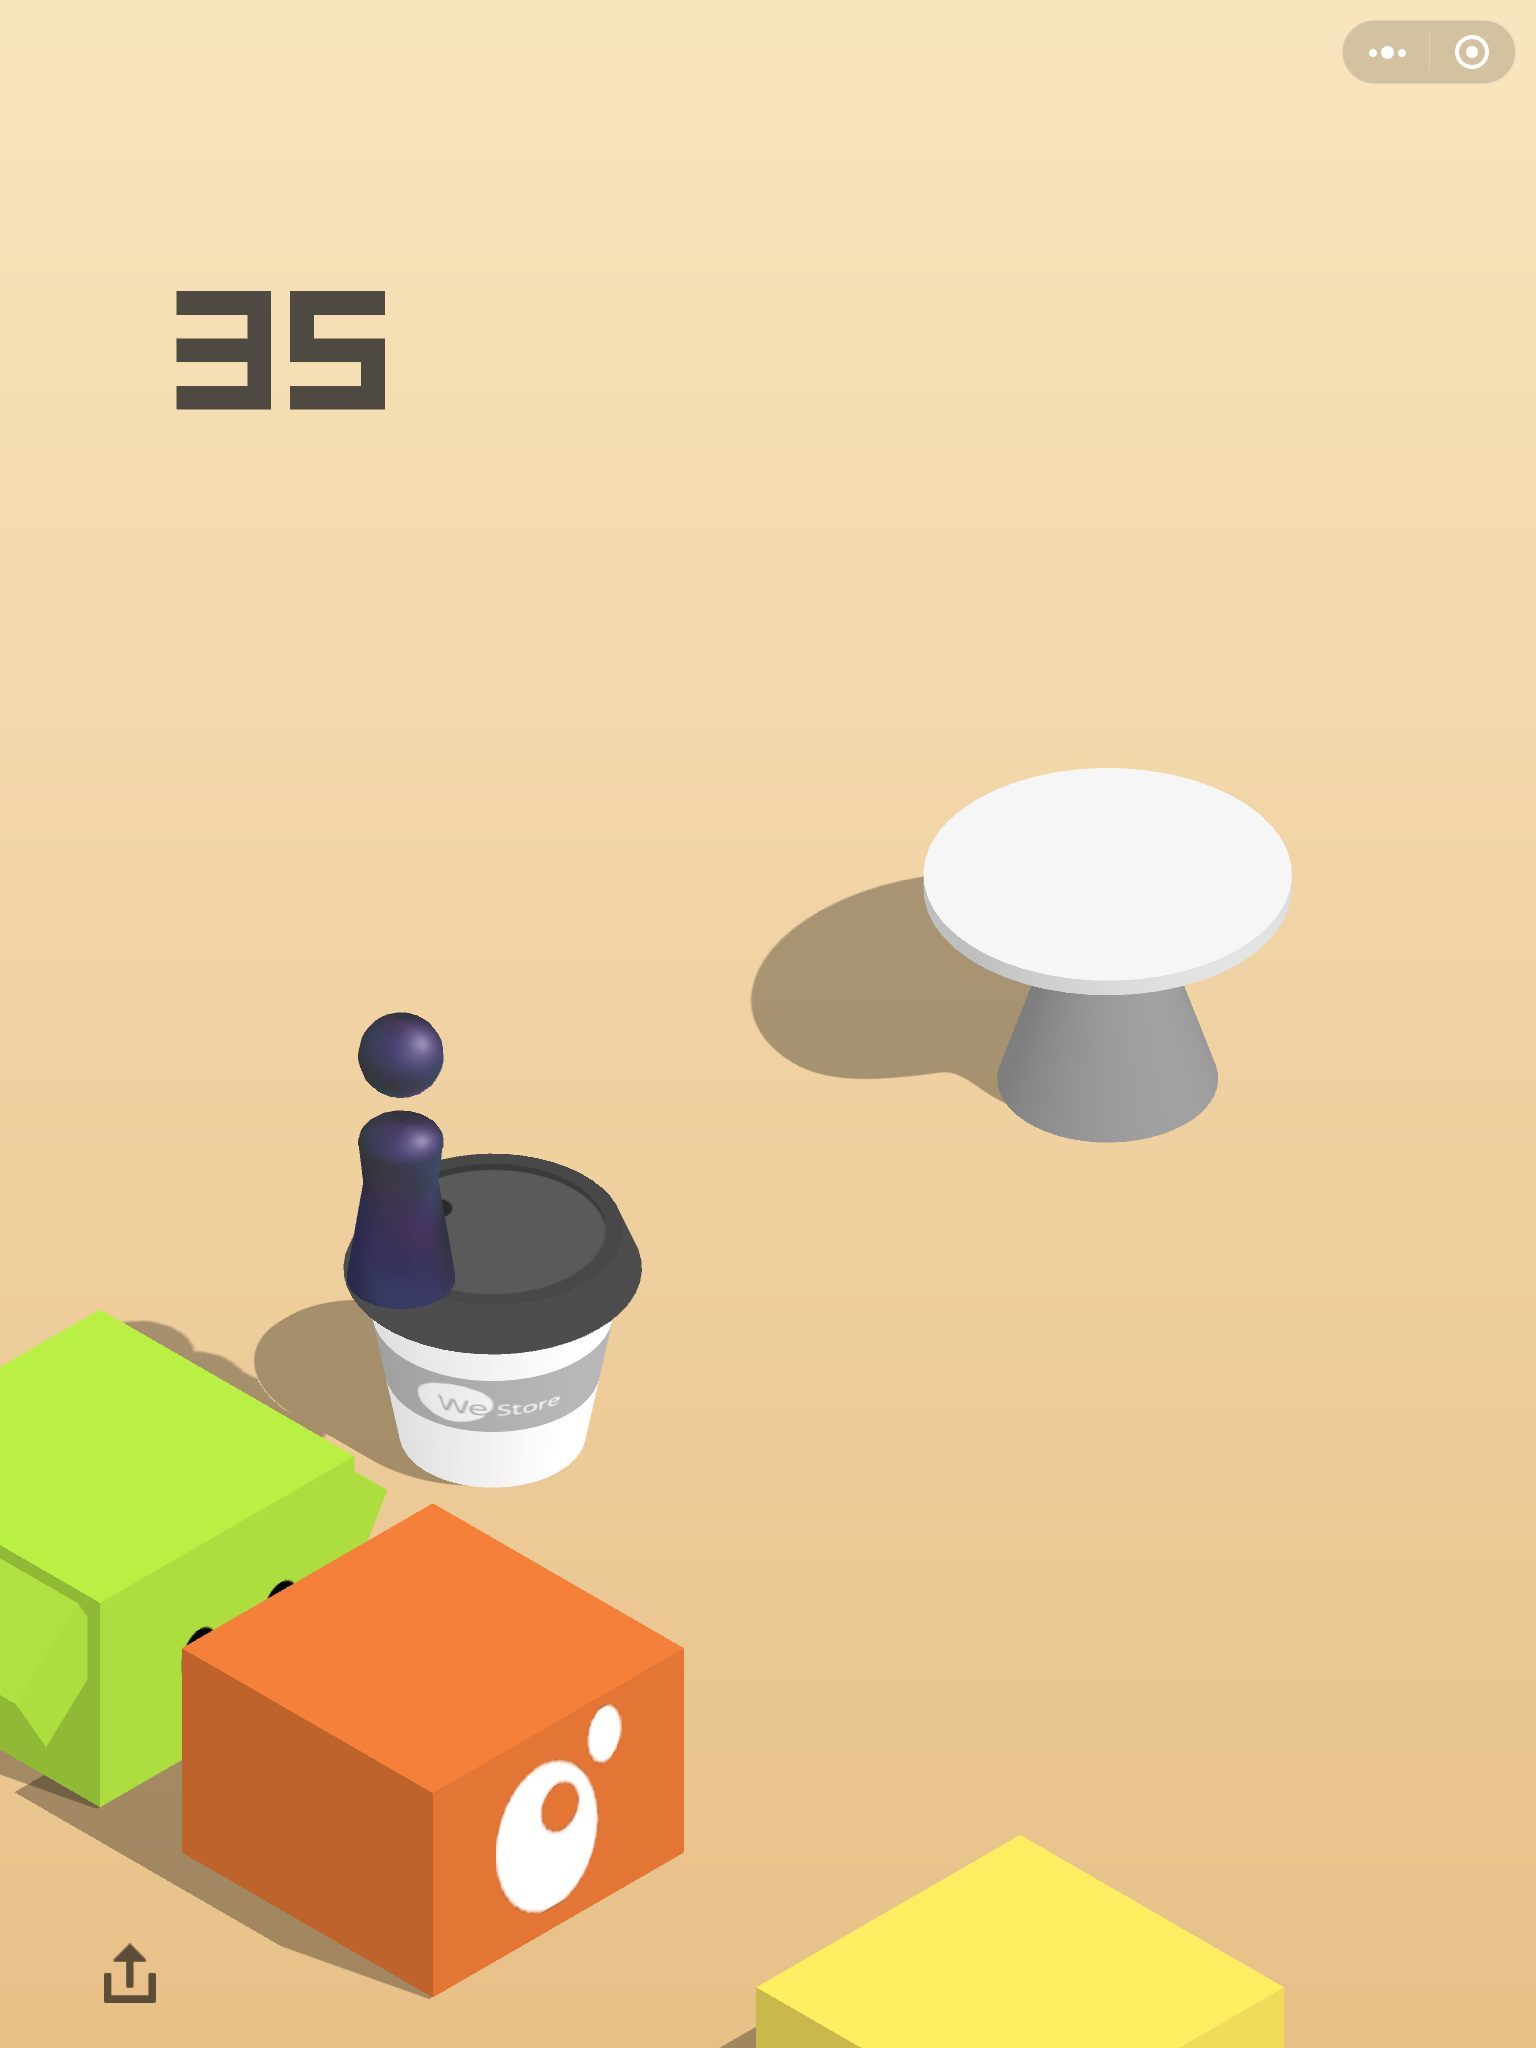c: (916, 763, 1299, 1148), (334, 1147, 650, 1496)
f: (177, 1501, 691, 2001), (2, 1309, 395, 1816), (753, 1830, 1296, 2048)
r: (337, 1005, 465, 1319)
